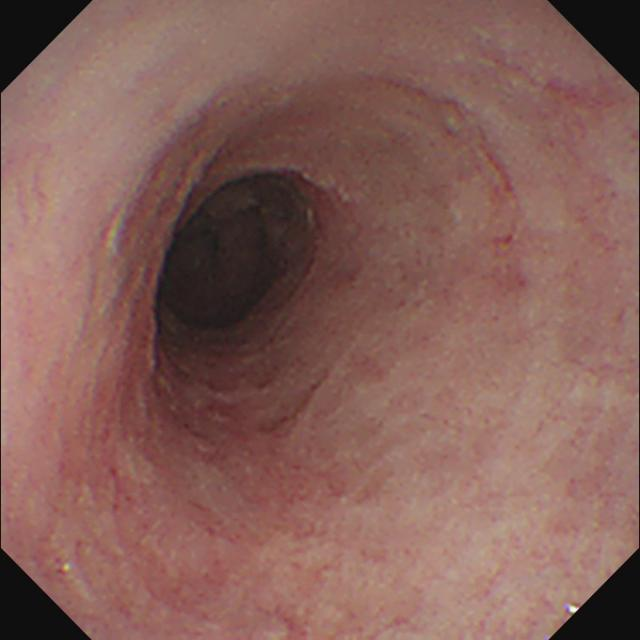A: (158, 330, 332, 430), (491, 44, 623, 140)
E: (174, 192, 282, 321)
